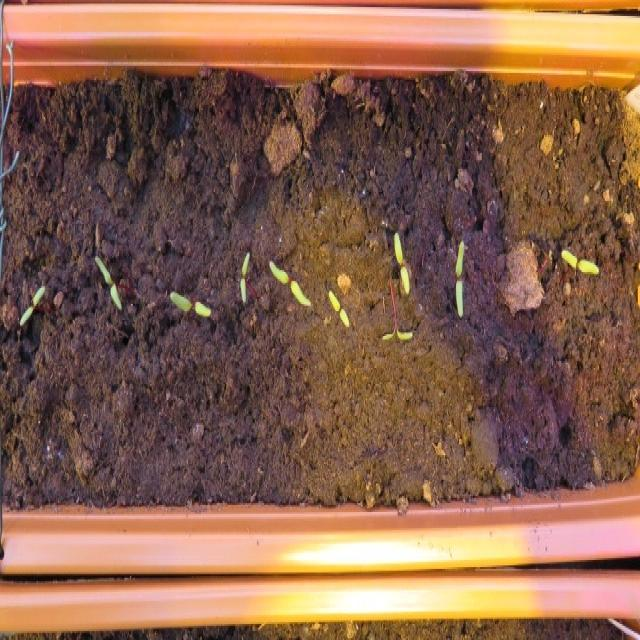crop: (264, 254, 312, 306), (89, 251, 123, 309), (555, 243, 604, 276), (390, 226, 413, 295), (450, 235, 468, 318), (15, 281, 47, 325), (165, 288, 215, 316), (324, 286, 351, 329), (236, 245, 251, 302)
